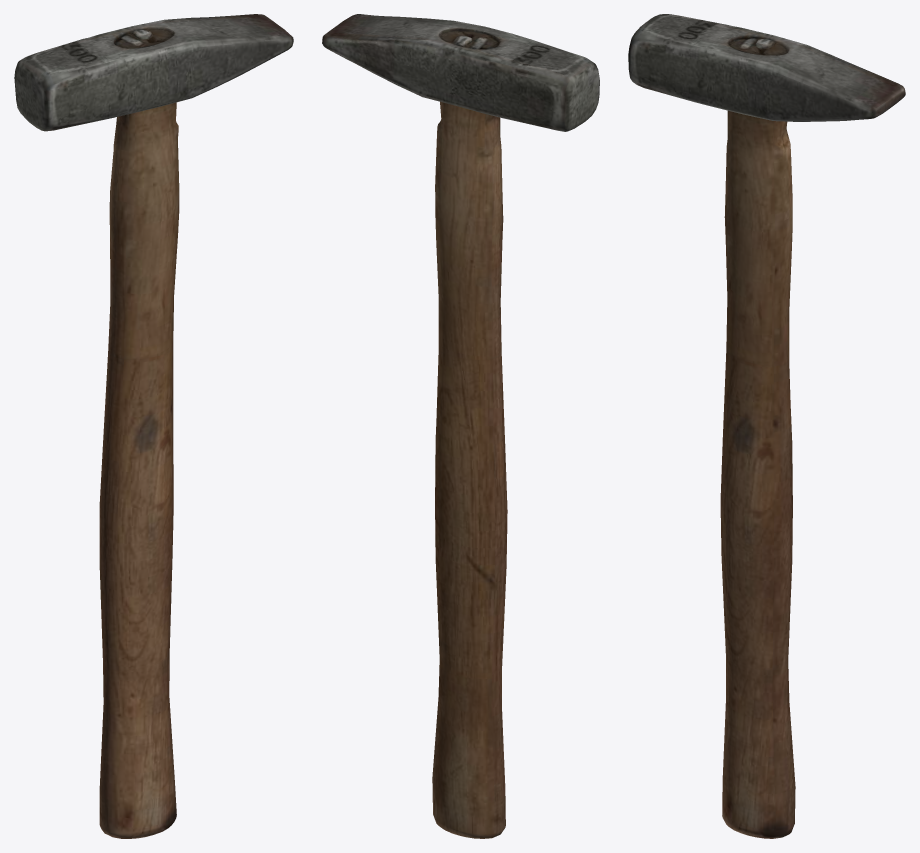
3 renders of one model, left to right at view 1: azimuth 30°, elevation 25°; view 2: azimuth 150°, elevation 25°; view 3: azimuth 330°, elevation 25°, orthographic.
Visible parts, largest first — view 1: cross_pein_hammer; view 2: cross_pein_hammer; view 3: cross_pein_hammer.
Boxes of the visible parts, bbox=[...] form: cross_pein_hammer: bbox=[14, 14, 293, 838]; cross_pein_hammer: bbox=[322, 14, 599, 838]; cross_pein_hammer: bbox=[628, 14, 905, 838].
Size of the model in its own units: 0.0991 by 0.3002 by 0.0243.
Materials: 1 (1 with a texture image).
